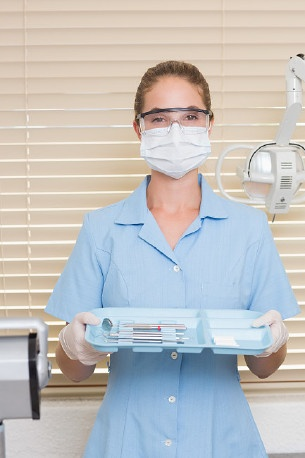Mask: (139, 99, 220, 180)
